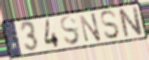3: (21, 21, 39, 54)
4: (44, 18, 60, 50)
N: (116, 6, 145, 39), (78, 12, 103, 43)
S: (99, 9, 122, 41), (59, 14, 81, 47)
